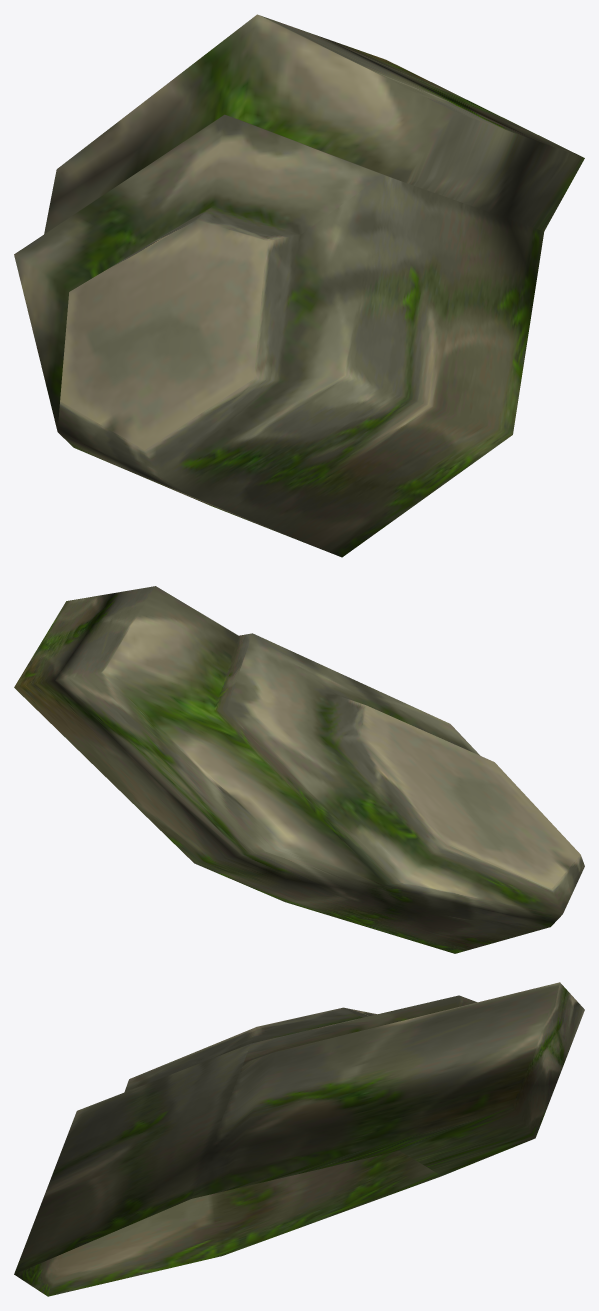
File: RockFormation_4_5 (53).fbx
The picture shows the model from 3 angles, top to bottom: view 1: azimuth 30°, elevation 25°; view 2: azimuth 150°, elevation 25°; view 3: azimuth 270°, elevation 25°; orthographic projection. The views are drawn at different scales.
Parts seen in each view (by area): view 1: RockFormation_4_5 (53); view 2: RockFormation_4_5 (53); view 3: RockFormation_4_5 (53).
Boxes of the visible parts, x1,y1,x2,y2 form: RockFormation_4_5 (53): (14, 14, 584, 557); RockFormation_4_5 (53): (14, 586, 584, 953); RockFormation_4_5 (53): (14, 982, 584, 1296).
Size of the model in its own units: 130 by 84.4 by 111.
